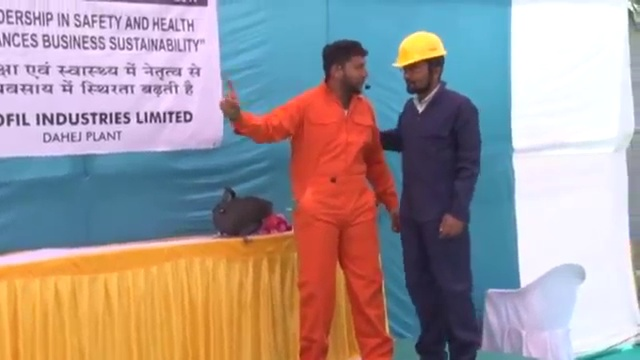helmet: (390, 30, 447, 70)
helmet_off: (322, 40, 373, 95)
helmet_on: (388, 30, 447, 106)
person: (220, 41, 401, 360), (380, 30, 487, 360)
